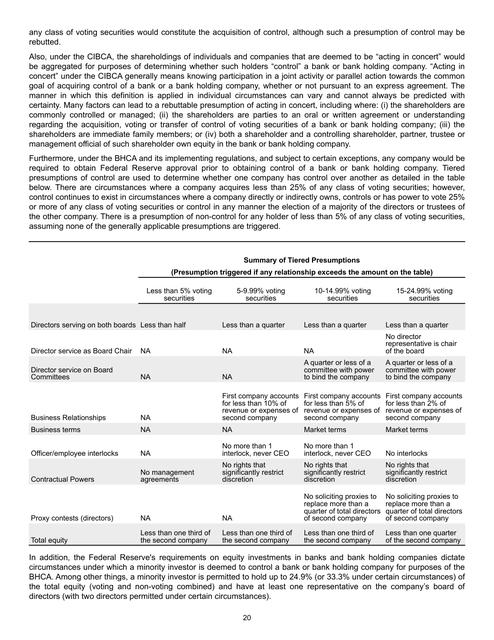box: (28, 256, 468, 547)
